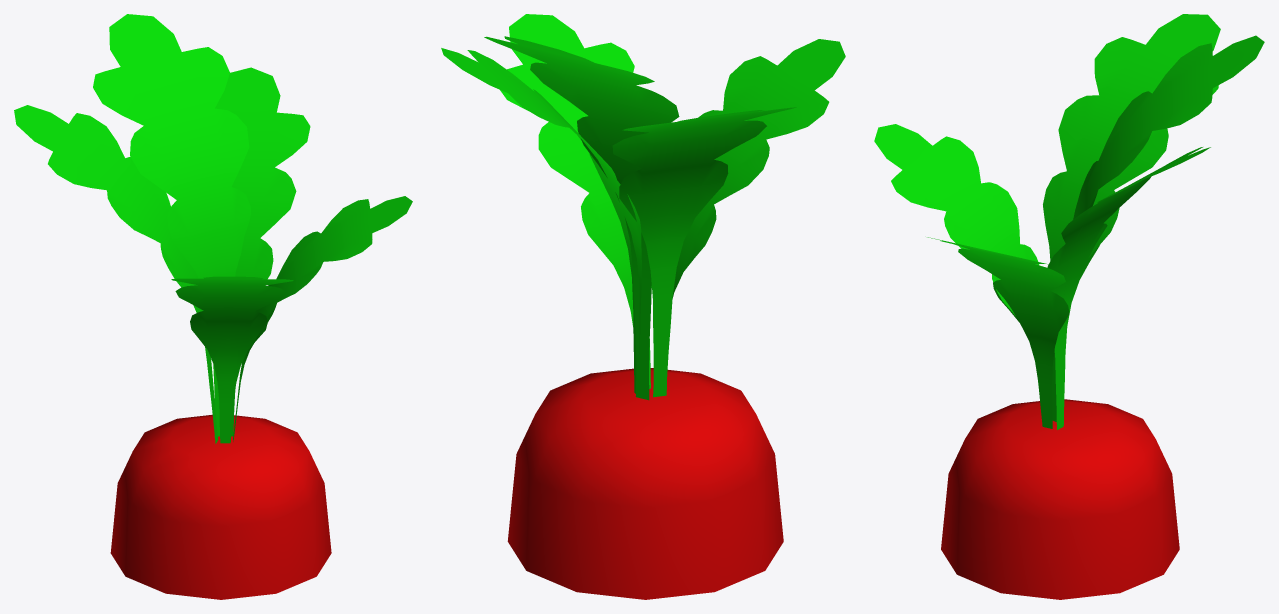
Rendered from Carrot_4.fbx.
3 views of the same model, side by side, from view 1: azimuth 30°, elevation 25°; view 2: azimuth 150°, elevation 25°; view 3: azimuth 270°, elevation 25° (orthographic). The views are drawn at different scales.
Visible parts, largest first — view 1: BSTC_Carrot_4; view 2: BSTC_Carrot_4; view 3: BSTC_Carrot_4.
Boxes of the visible parts, x1,y1,x2,y2 form: BSTC_Carrot_4: (14,14,412,599); BSTC_Carrot_4: (441,14,845,599); BSTC_Carrot_4: (874,14,1264,599).
Size of the model in its own units: 55.89 by 85.09 by 59.3.
